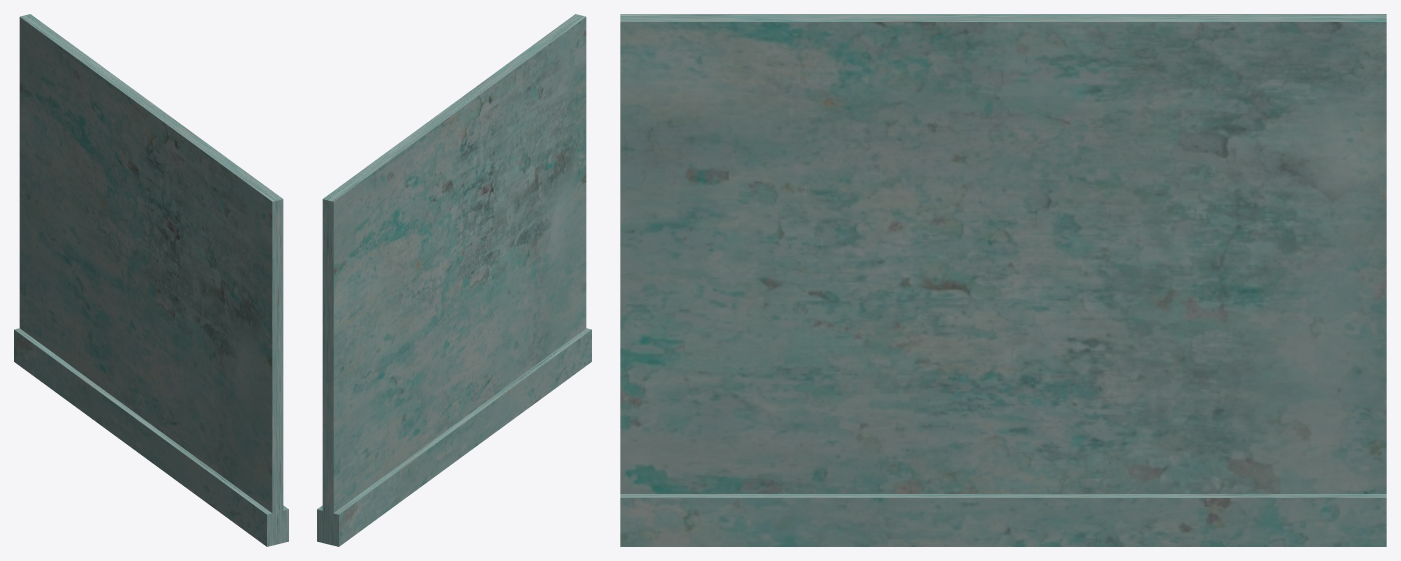
Rendered from Wall_4m.glb.
3 renders of one model, left to right at view 1: azimuth 30°, elevation 25°; view 2: azimuth 150°, elevation 25°; view 3: azimuth 270°, elevation 25°, orthographic. The views are drawn at different scales.
Parts seen in each view (by area): view 1: Wall 4m; view 2: Wall 4m; view 3: Wall 4m.
Part boxes in pixels (x1,y1,x2,y2): Wall 4m: [14, 14, 288, 546]; Wall 4m: [317, 14, 591, 546]; Wall 4m: [620, 14, 1386, 546].
Bounding box in the file's own units: 0.2 × 3 × 4.
1 material, 1 textured.
